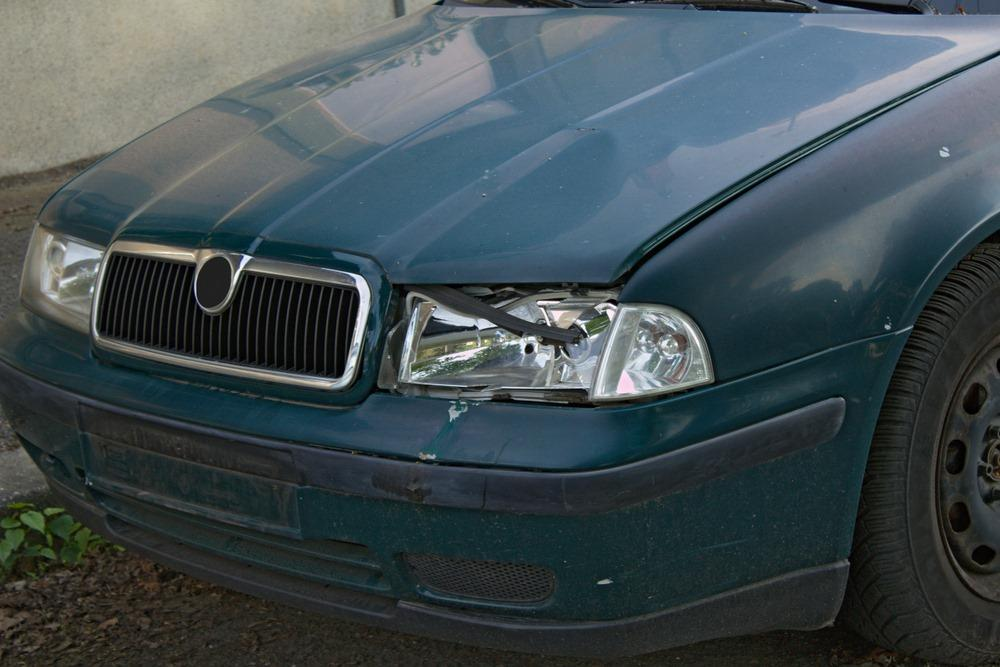lamp broken: (377, 286, 717, 408)
